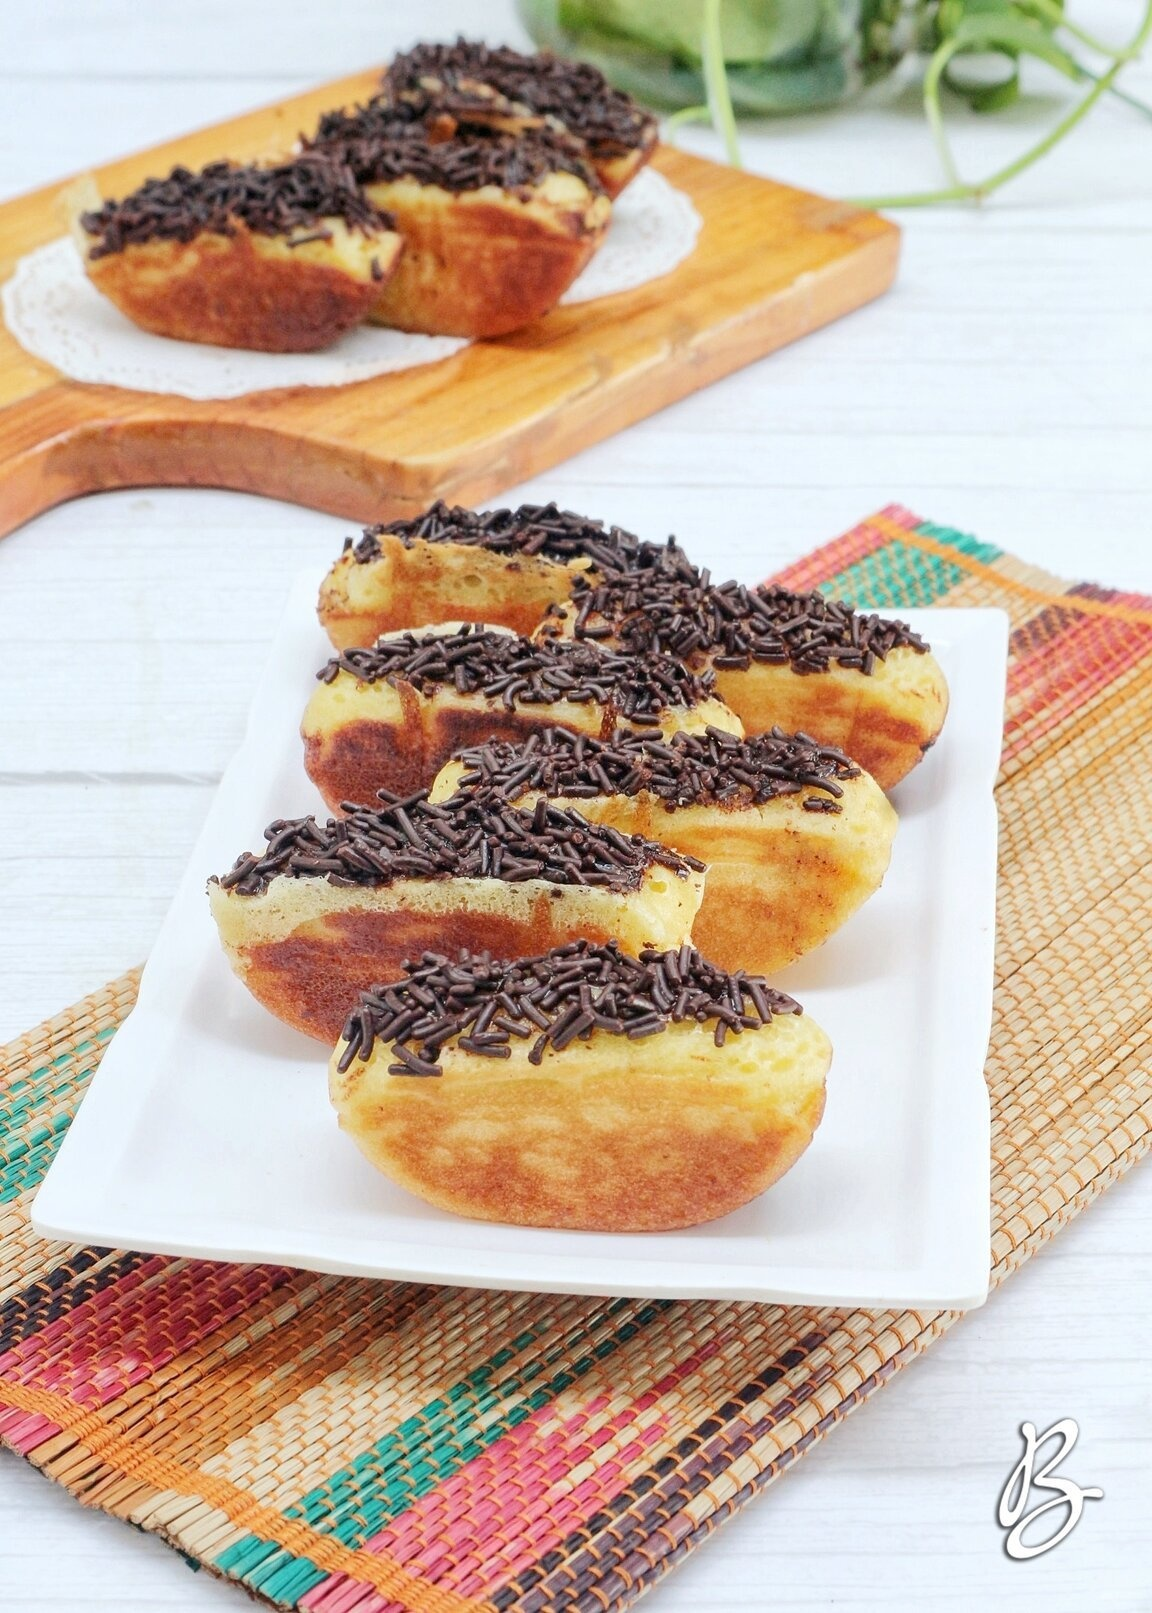pukis: (273, 950, 842, 1268), (65, 140, 396, 378)
